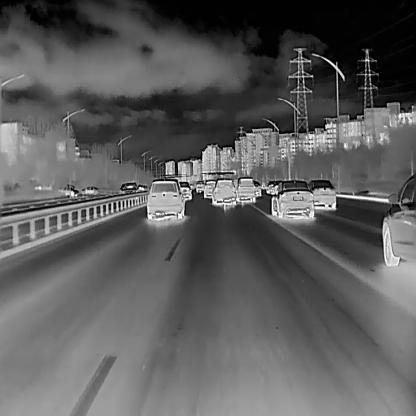car: (381, 173, 416, 268), (269, 177, 313, 219), (146, 177, 184, 219), (307, 177, 336, 211), (211, 177, 237, 205), (233, 176, 255, 203), (176, 179, 192, 200), (265, 180, 284, 194), (56, 184, 78, 196), (203, 178, 216, 197), (81, 184, 99, 196), (121, 180, 135, 195), (252, 178, 262, 196), (194, 179, 204, 192)
